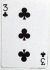three: (1, 1, 49, 70)
